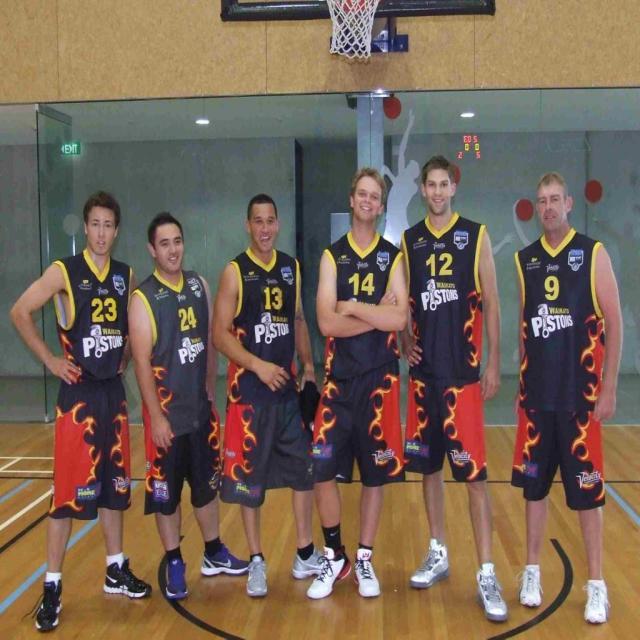Face: (351, 167, 389, 229), (85, 194, 119, 262), (425, 164, 467, 210), (535, 175, 571, 228), (251, 195, 282, 256), (143, 223, 185, 267)
